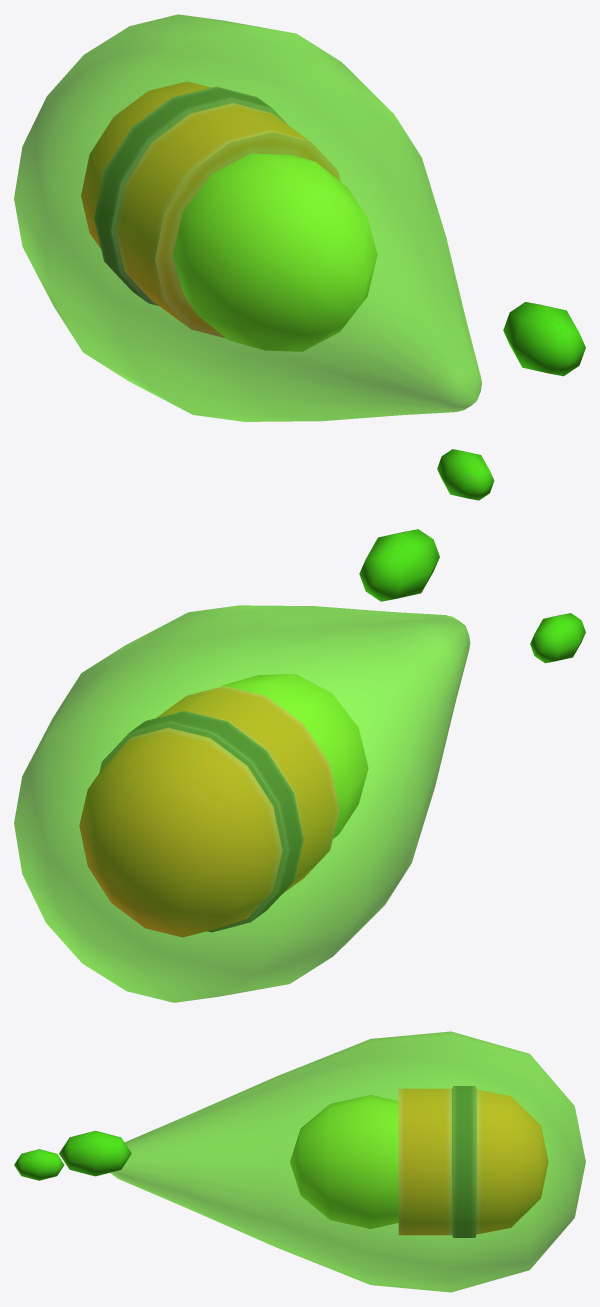
File: proj_sticky.glb
3 renders of one model, top to bottom at view 1: azimuth 30°, elevation 25°; view 2: azimuth 150°, elevation 25°; view 3: azimuth 270°, elevation 25°, orthographic. The views are drawn at different scales.
Visible parts, largest first — view 1: proj_sticky; view 2: proj_sticky; view 3: proj_sticky.
Part boxes in pixels (left/top/right/bottom): proj_sticky: left=14, top=14, right=585, bottom=500; proj_sticky: left=14, top=529, right=585, bottom=1002; proj_sticky: left=14, top=1031, right=585, bottom=1292.
Bounding box in the file's own units: 0.14 × 0.1379 × 0.3055.
Materials: 4 (3 with a texture image).
